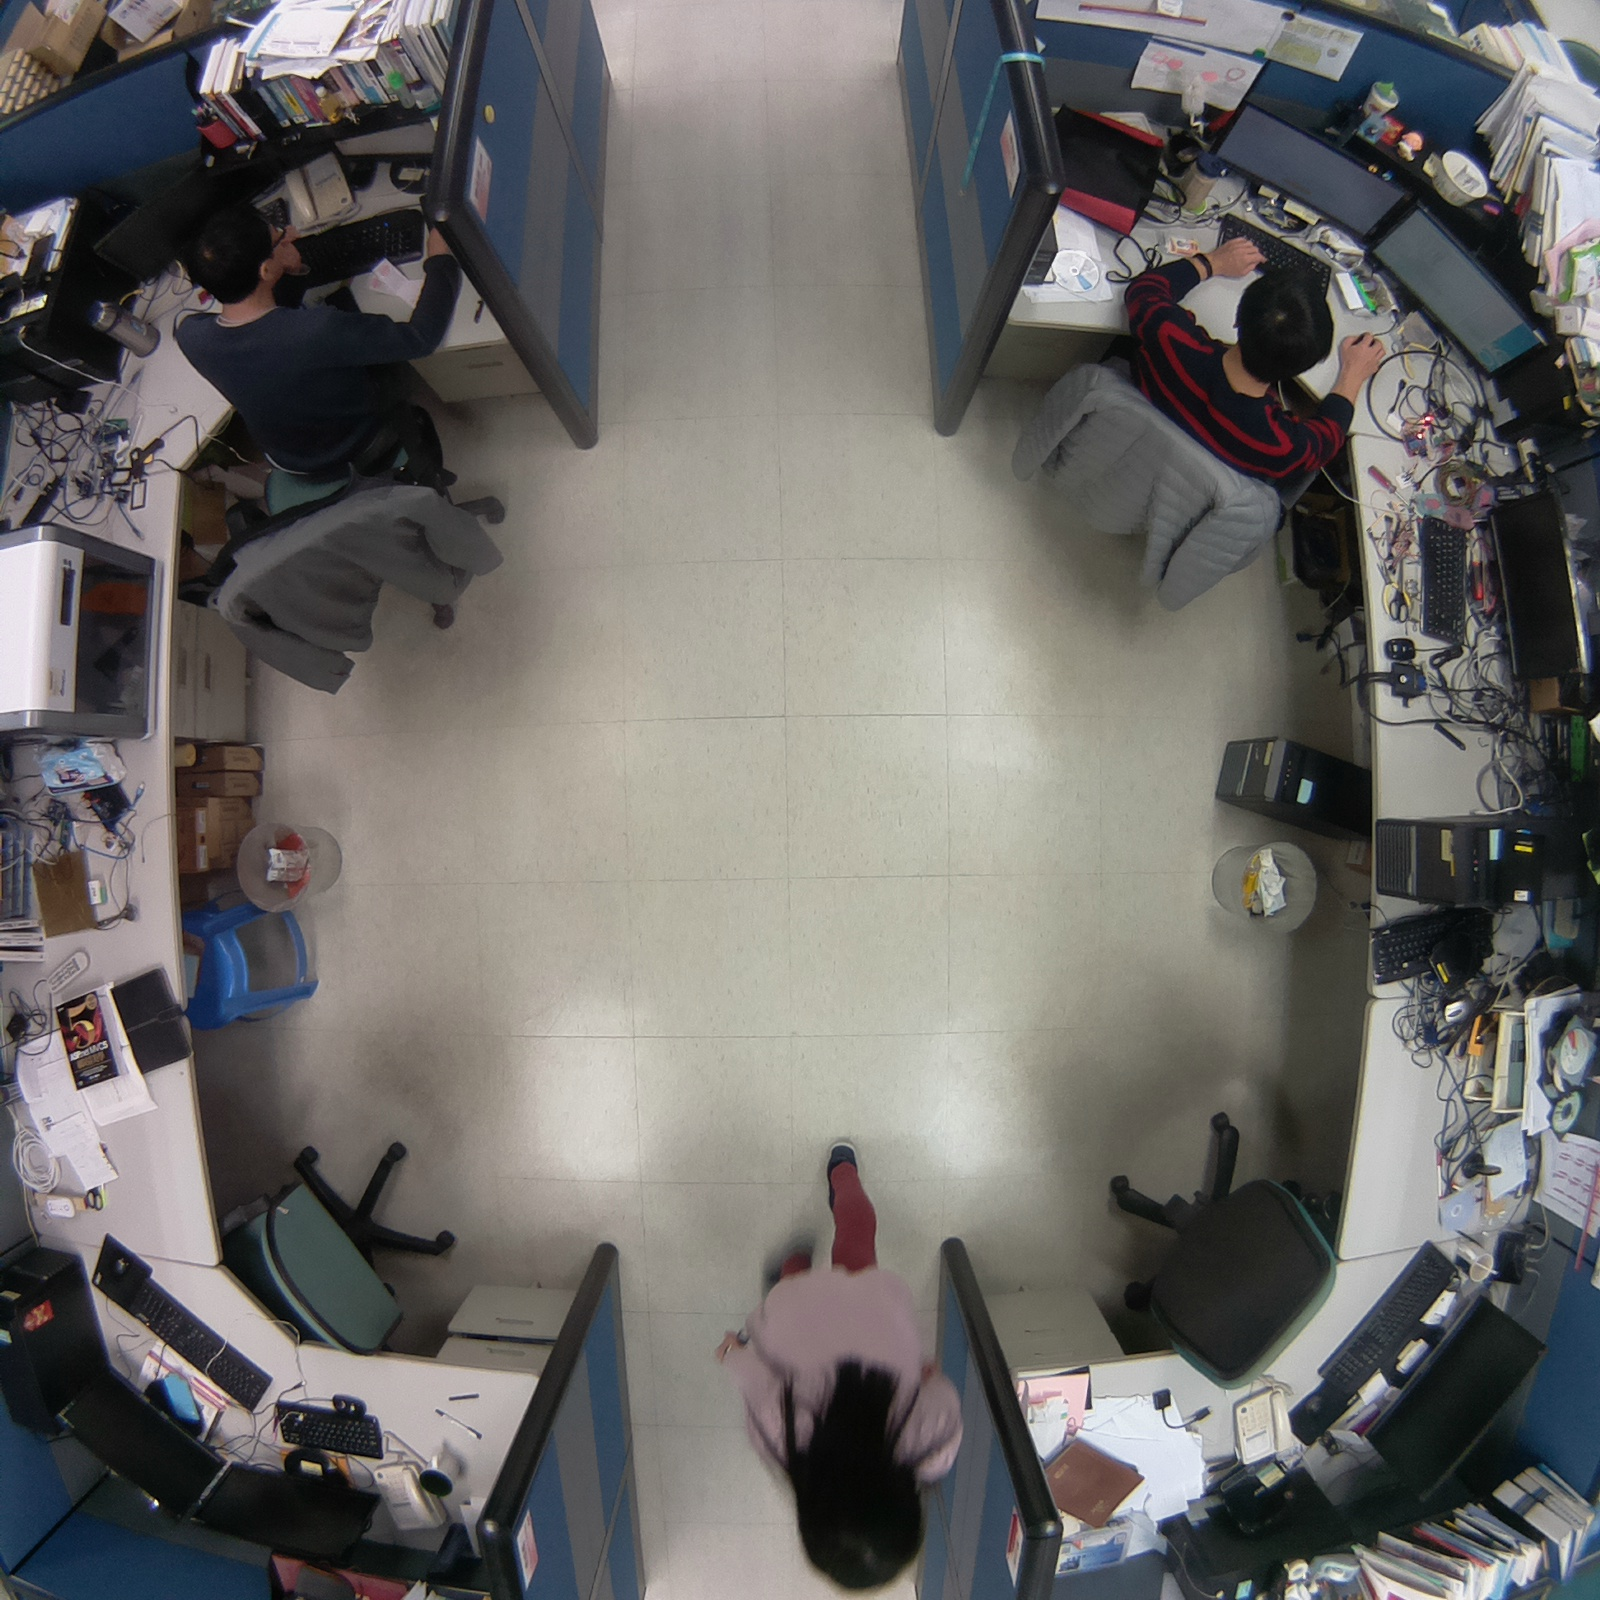chair: (1086, 1096, 1355, 1406), (212, 1122, 494, 1370)
head: (742, 1351, 942, 1593), (172, 185, 287, 302), (1225, 268, 1342, 378)
sitting: (153, 191, 527, 706), (994, 243, 1365, 629)
walking: (702, 1124, 971, 1597)
